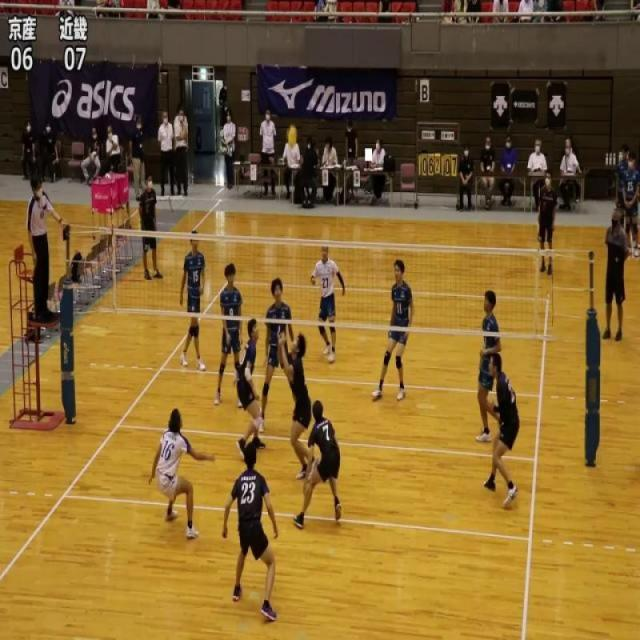volleyball: (288, 124, 298, 149)
